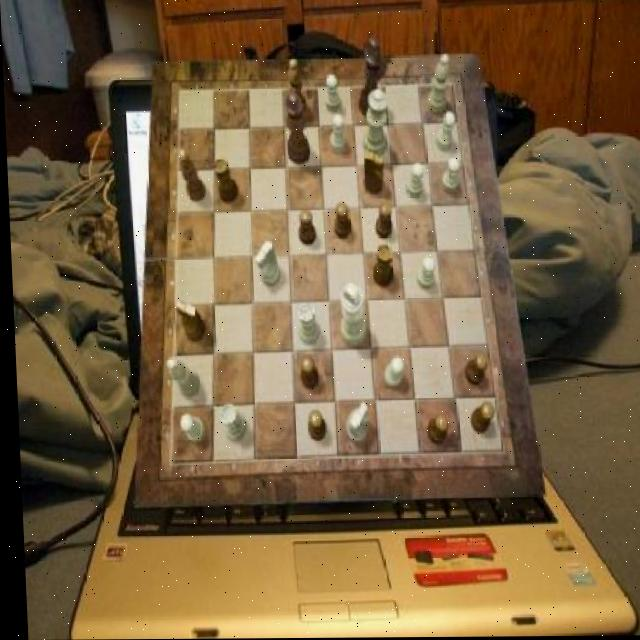bishop: (178, 150, 204, 202), (285, 58, 305, 117)
black-bishop: (355, 36, 385, 119)
black-king: (172, 300, 203, 343), (361, 152, 383, 196)
black-knight: (466, 402, 491, 435), (462, 354, 486, 387), (422, 414, 446, 446), (296, 211, 315, 247), (373, 202, 391, 238), (297, 357, 316, 391), (332, 203, 349, 239), (304, 410, 322, 441)
black-pawn: (285, 93, 310, 166)
black-queen: (212, 157, 237, 203), (370, 244, 392, 288)
black-rook: (425, 54, 450, 115), (163, 359, 197, 399)
white-bishop: (336, 282, 364, 347)
white-king: (252, 241, 278, 288), (342, 403, 366, 444)
white-knight: (435, 111, 456, 151), (178, 414, 203, 444), (380, 357, 401, 390), (329, 115, 346, 155), (439, 159, 458, 194), (324, 75, 341, 113), (414, 256, 432, 290), (405, 164, 423, 198)
white-pawn: (359, 90, 388, 158)
white-queen: (217, 403, 243, 441), (295, 304, 318, 344)
